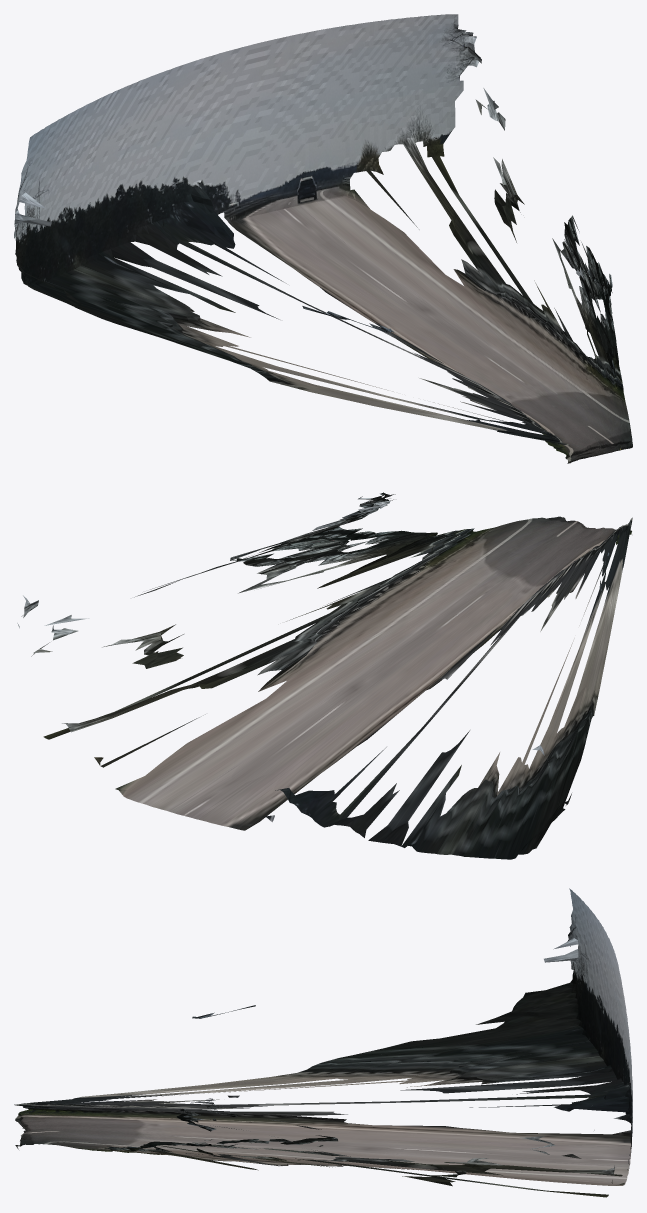
3 views of the same model, one above another, from view 1: azimuth 30°, elevation 25°; view 2: azimuth 150°, elevation 25°; view 3: azimuth 270°, elevation 25° (orthographic). The views are drawn at different scales.
Parts seen in each view (by area): view 1: defaultobject; view 2: defaultobject; view 3: defaultobject.
Part boxes in pixels (<box>): defaultobject: <box>14,14,632,463</box>; defaultobject: <box>17,492,632,859</box>; defaultobject: <box>14,888,632,1197</box>.
Bounding box in the file's own units: 35.34 × 12.61 × 44.61.
1 material, 1 textured.
